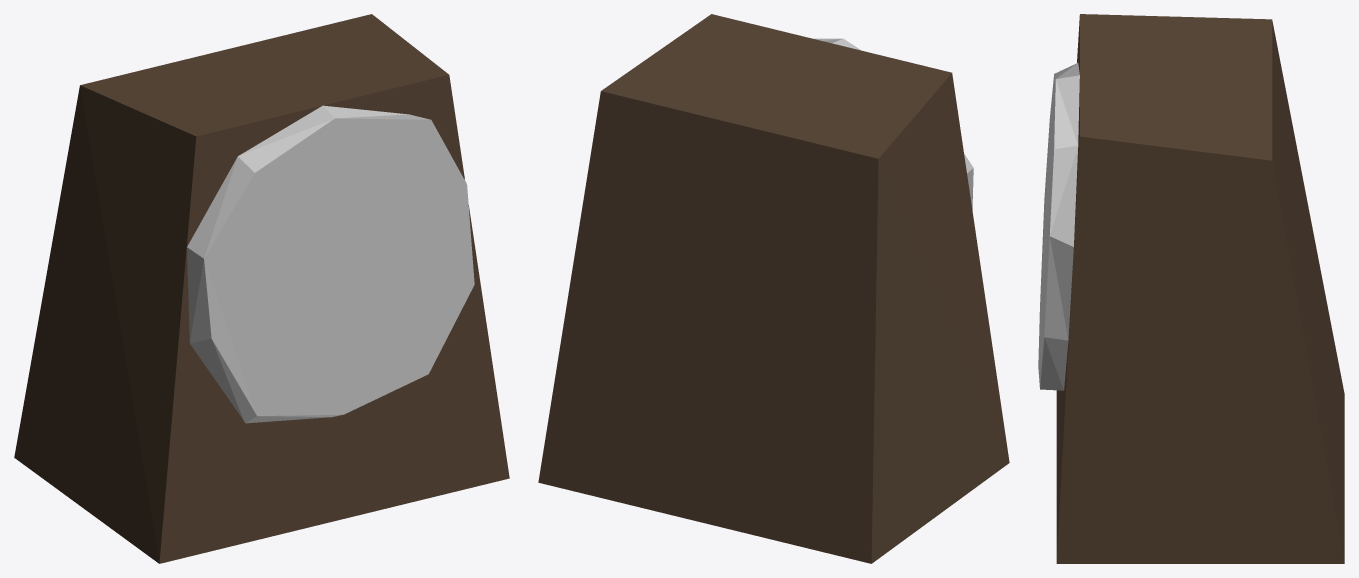
Rendered from OC_LOB_BOWTRAIN.OBJ.
3 renders of one model, left to right at view 1: azimuth 30°, elevation 25°; view 2: azimuth 150°, elevation 25°; view 3: azimuth 270°, elevation 25°, orthographic. The views are drawn at different scales.
Parts seen in each view (by area): view 1: OC_LOB_BOWTRAIN; view 2: OC_LOB_BOWTRAIN; view 3: OC_LOB_BOWTRAIN.
Boxes of the visible parts, box(x1,y1,x2,y2) form: OC_LOB_BOWTRAIN: box(14, 14, 509, 563); OC_LOB_BOWTRAIN: box(538, 14, 1009, 563); OC_LOB_BOWTRAIN: box(1038, 14, 1344, 563).
Bounding box in the file's own units: 1.44 × 1.6 × 1.1.
